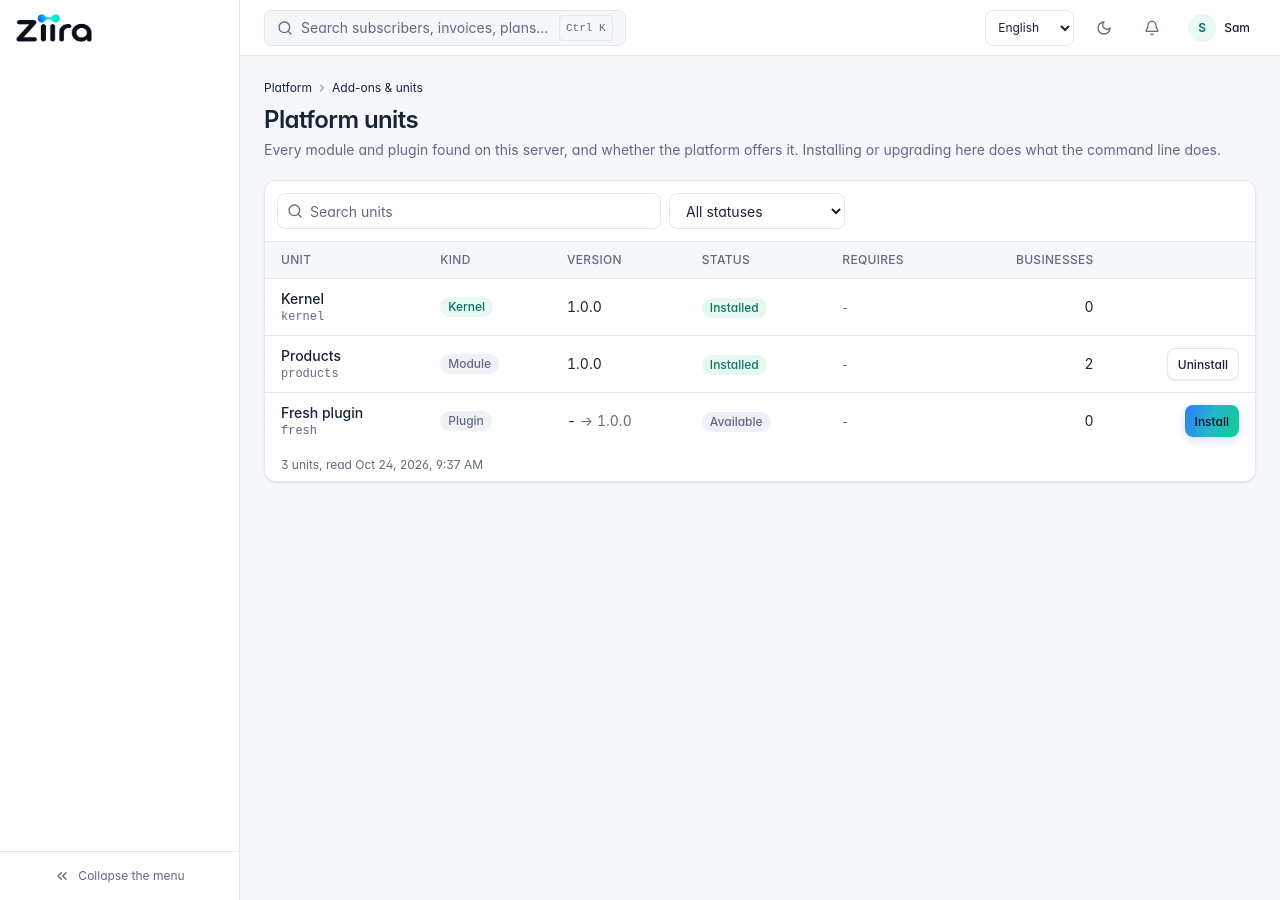
it: platform units › explains why an uninstall is refused and keeps the button off
Click the button with aria-label "Uninstall Products": (1203, 364) [1167,348,1239,380]
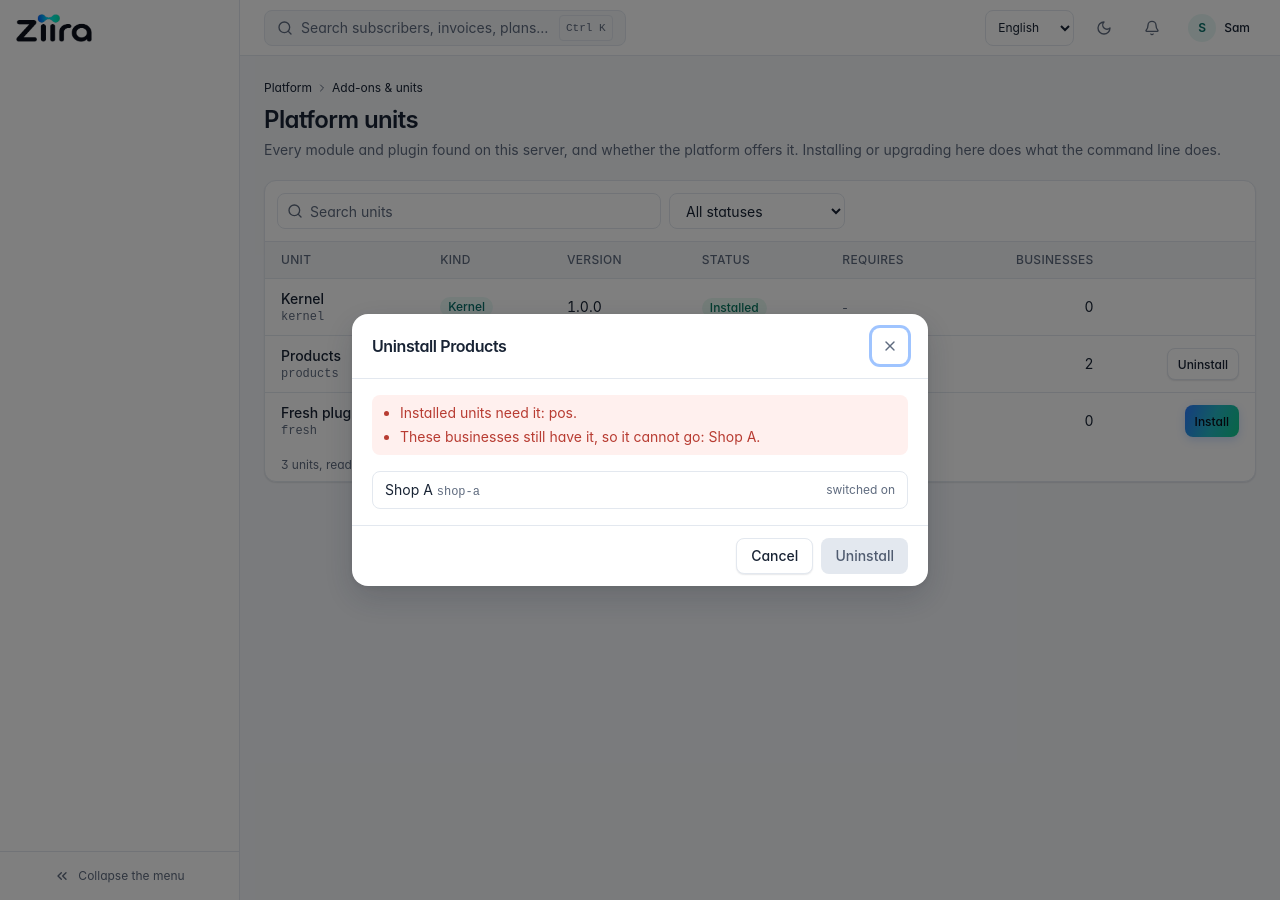
Expected: the list item "Installed units need it: pos." is shown, [400,404,577,421]
Expected: the text "Shop A" is shown, [385,481,433,498]
Expected: the button "Uninstall" is disabled, [821,538,908,574]
